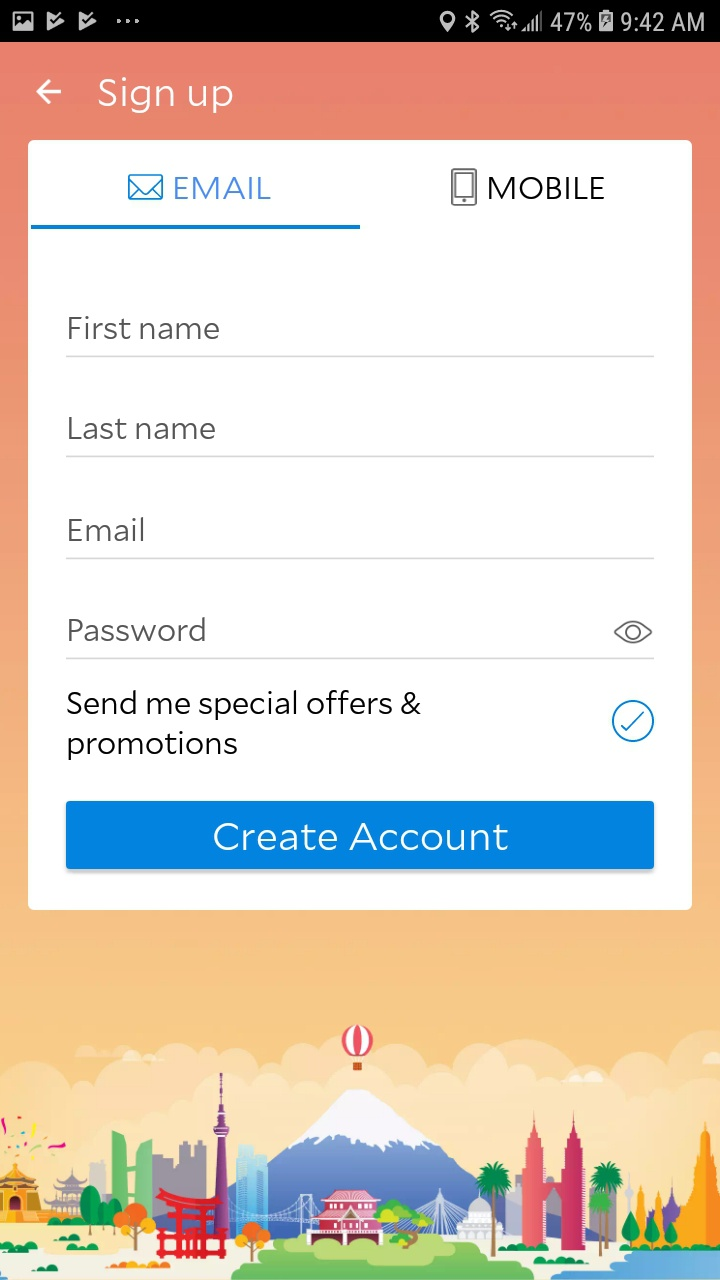CheckedTextView: (66, 689, 655, 762)
EditText: (66, 517, 655, 561), (66, 617, 655, 660), (67, 316, 655, 359), (67, 417, 655, 459)
Icon: (451, 168, 478, 207), (614, 620, 653, 645), (128, 174, 164, 201), (36, 79, 63, 106)
Image: (1, 1022, 720, 1280)
Text: (67, 689, 422, 761), (99, 77, 233, 115), (69, 316, 220, 341), (69, 617, 206, 643), (69, 417, 216, 440), (488, 177, 605, 200), (175, 177, 272, 201), (69, 517, 144, 543)
TextButton: (66, 801, 654, 870)
UpperTaskBar: (1, 1, 720, 43)
